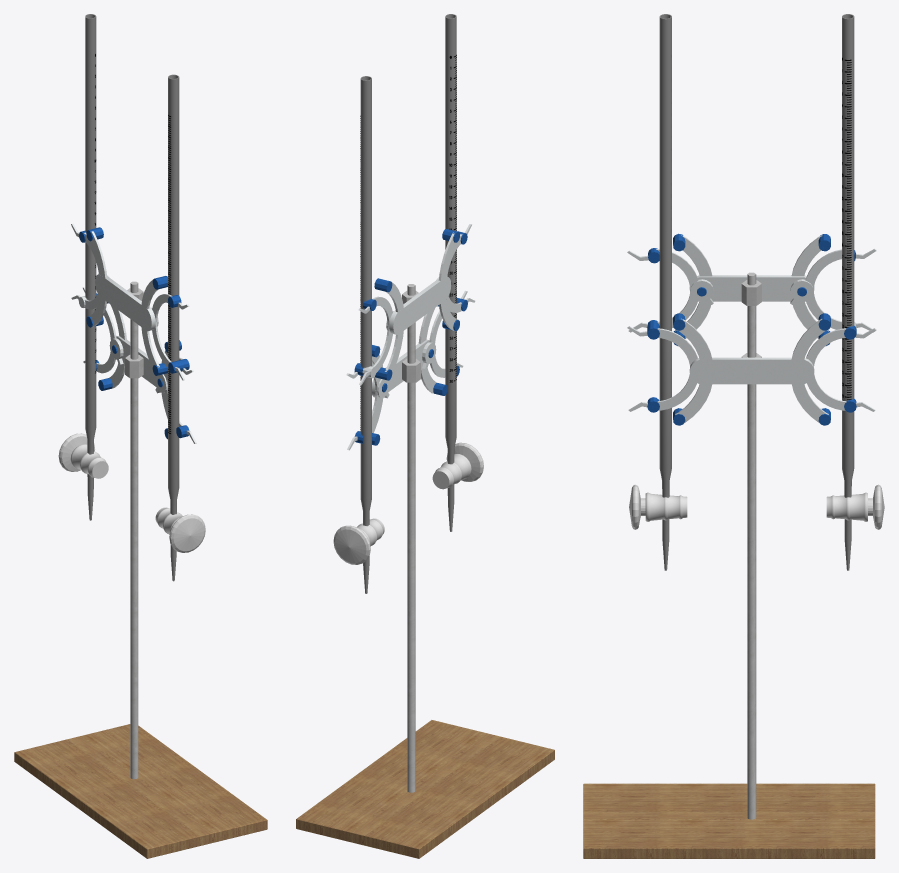
Rendered from SM_玻璃滴定组.fbx.
3 views of the same model, side by side, from view 1: azimuth 30°, elevation 25°; view 2: azimuth 150°, elevation 25°; view 3: azimuth 270°, elevation 25° (orthographic). The views are drawn at different scales.
Parts seen in each view (by area): view 1: SM_酸式滴定管组合, SM_酸式滴定管2, SM_酸式滴定管, SM_旋钮, SM_旋钮2; view 2: SM_酸式滴定管组合, SM_酸式滴定管, SM_酸式滴定管2, SM_旋钮2, SM_旋钮; view 3: SM_酸式滴定管组合, SM_酸式滴定管, SM_酸式滴定管2.
Part boxes in pixels (x1,y1,x2,y2): SM_酸式滴定管组合: [14, 223, 267, 858]; SM_酸式滴定管2: [70, 14, 108, 520]; SM_酸式滴定管: [155, 74, 182, 581]; SM_旋钮: [169, 514, 205, 552]; SM_旋钮2: [58, 433, 94, 471]; SM_酸式滴定管组合: [296, 224, 554, 858]; SM_酸式滴定管: [432, 14, 471, 531]; SM_酸式滴定管2: [356, 76, 384, 593]; SM_旋钮2: [333, 525, 370, 564]; SM_旋钮: [446, 442, 483, 481]; SM_酸式滴定管组合: [583, 233, 876, 858]; SM_酸式滴定管: [645, 14, 687, 570]; SM_酸式滴定管2: [826, 14, 867, 570].
Bounding box in the file's own units: 0.1798 × 1.05 × 0.3537.
